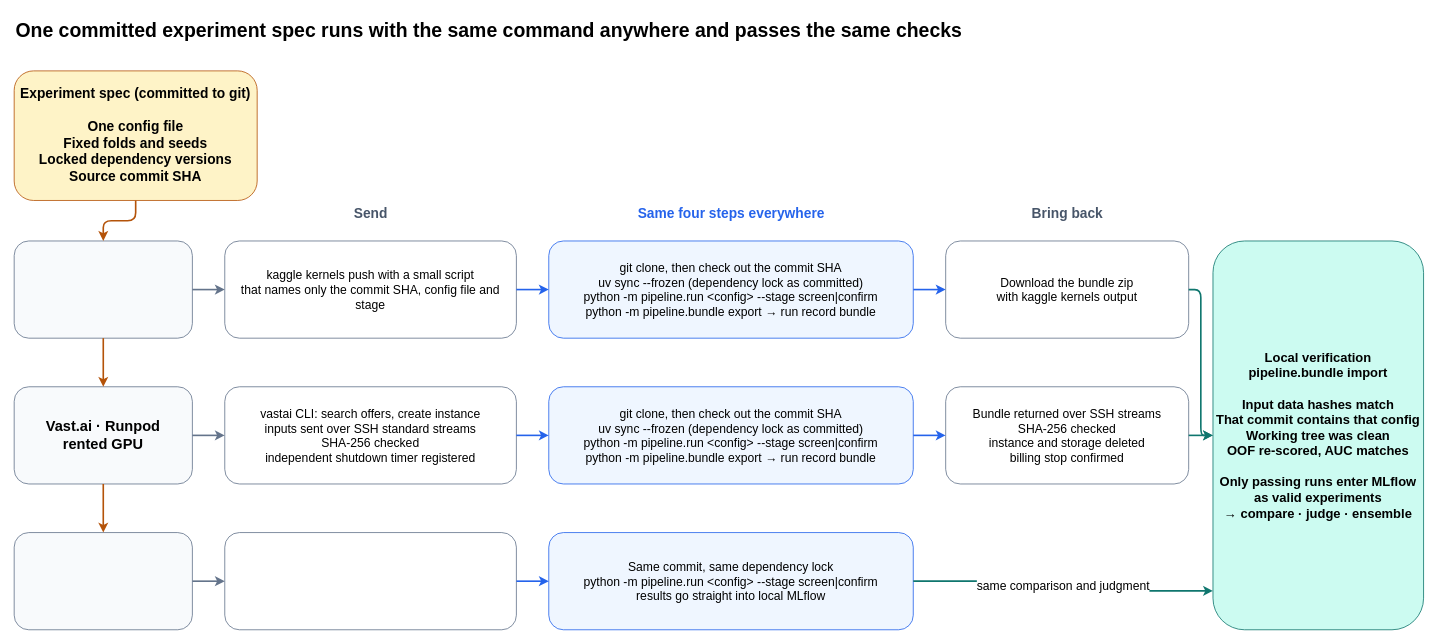
The diagram is 1438 pixels wide and 644 high, and some of its shapes have lost their labels. Each missing label, with the centre of its shape:
"Kaggle CPU · GPU" goes at pixel 102 289.
"Local CPU laptop" goes at pixel 102 581.
"Run directly" goes at pixel 370 581.
